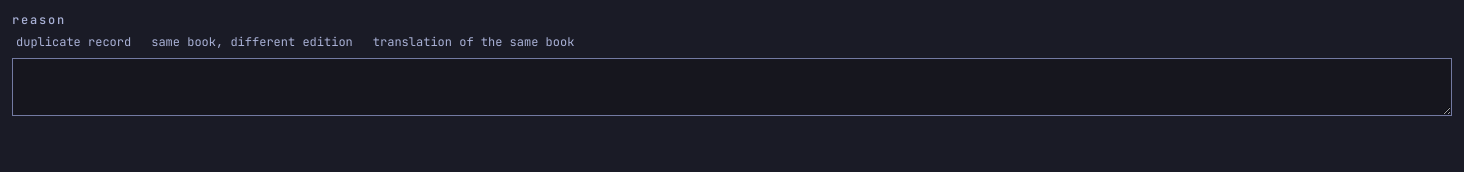
Test: ReasonField › still takes typing after a chip
This screenshot has width=1464, height=172.
Click the button "duplicate record": (74, 42) [12,34,135,50]
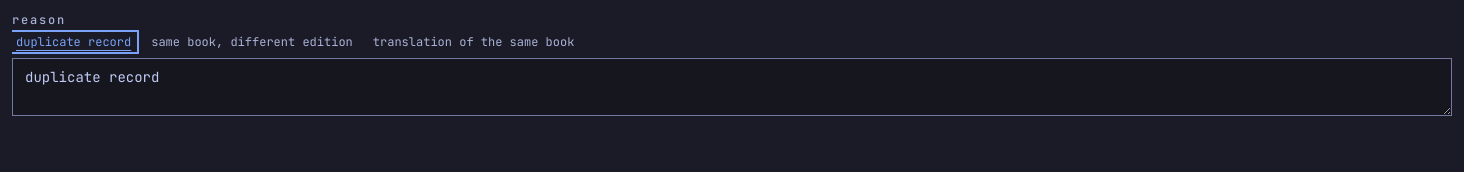
In the text box labelled "Reason": (732, 87) [12,58,1452,116], type ": second OL id"
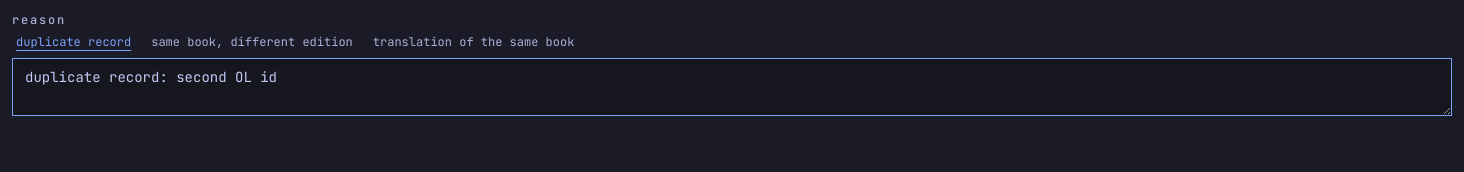
Check: the text box labelled "Reason" holds "duplicate record: second OL id", box [12,58,1452,116]
